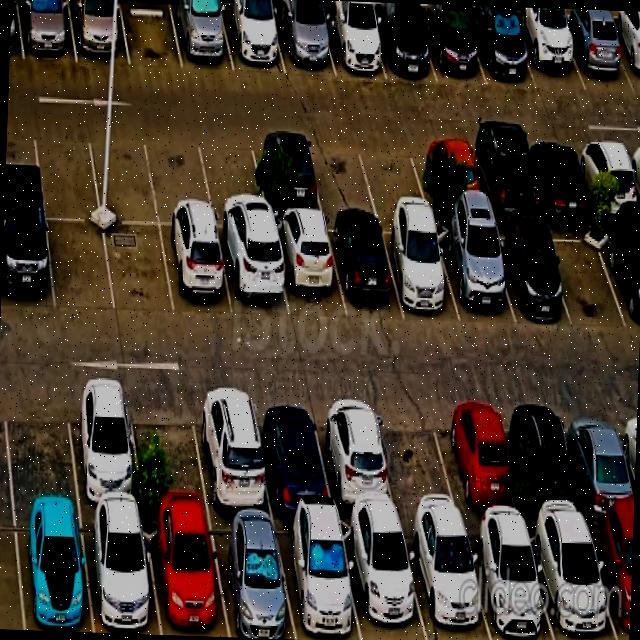empty: (371, 397, 462, 522), (128, 385, 209, 513), (2, 382, 78, 507), (544, 221, 628, 325), (197, 132, 269, 229), (87, 127, 158, 224), (104, 223, 174, 317), (32, 124, 100, 219), (146, 130, 214, 225), (46, 220, 114, 312), (357, 135, 429, 211), (307, 134, 377, 212), (119, 0, 182, 69)
occupied: (207, 516, 296, 639), (436, 397, 521, 524), (312, 396, 398, 520), (142, 514, 228, 637), (274, 519, 361, 640), (526, 524, 616, 640), (339, 520, 426, 640), (464, 523, 553, 640), (401, 523, 490, 640), (191, 388, 272, 516), (80, 510, 161, 635), (252, 391, 333, 515), (509, 397, 587, 524), (65, 382, 142, 510), (14, 509, 92, 632), (561, 400, 634, 524), (486, 224, 569, 323), (433, 224, 515, 324), (380, 220, 460, 322), (271, 217, 346, 319), (326, 218, 403, 317), (160, 226, 232, 316), (216, 230, 289, 318), (466, 138, 541, 219), (412, 137, 485, 216), (250, 134, 323, 213), (559, 17, 634, 92), (513, 16, 585, 91), (524, 138, 594, 215), (587, 523, 633, 640), (0, 213, 54, 311), (469, 11, 536, 88), (575, 138, 640, 216), (421, 11, 486, 84), (369, 12, 436, 82), (219, 3, 285, 73), (170, 0, 233, 72), (599, 221, 640, 330), (319, 11, 385, 78), (273, 9, 334, 74), (68, 0, 129, 64), (17, 0, 76, 62), (608, 20, 640, 92)
